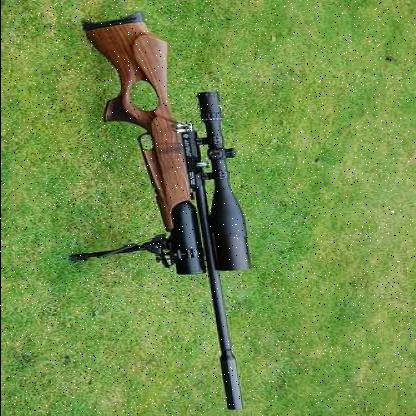rifle: (109, 0, 252, 415)
